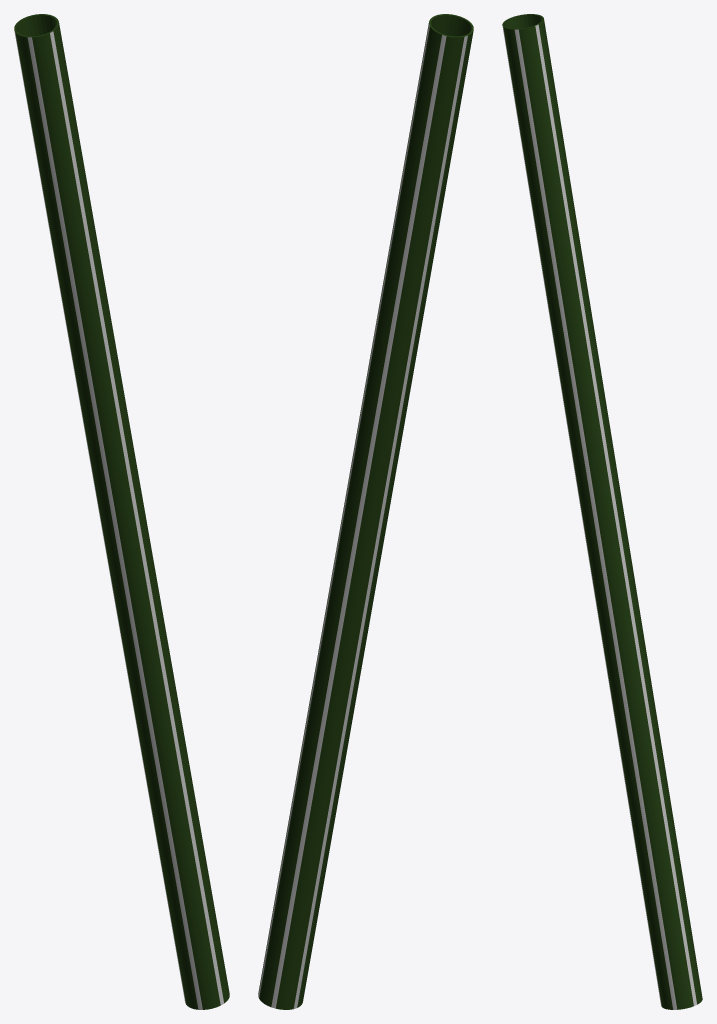
The model's file is GreenStraw.fbx.
3 views of the same model, side by side, from view 1: azimuth 30°, elevation 25°; view 2: azimuth 150°, elevation 25°; view 3: azimuth 330°, elevation 25° (orthographic). The views are drawn at different scales.
Visible parts, largest first — view 1: Cylinder002; view 2: Cylinder002; view 3: Cylinder002.
Boxes of the visible parts, bbox=[...] form: Cylinder002: bbox=[14, 14, 229, 1009]; Cylinder002: bbox=[258, 14, 473, 1009]; Cylinder002: bbox=[502, 14, 702, 1009].
Size of the model in its own units: 10.65 by 49.59 by 1.99.
